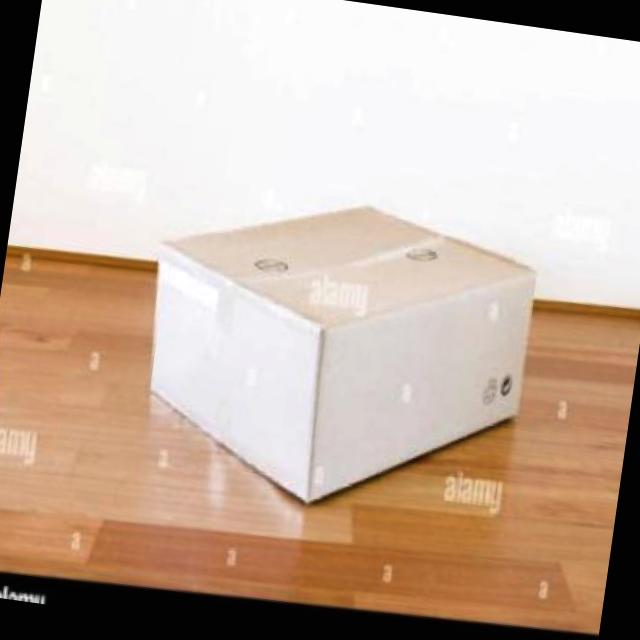box: (107, 150, 588, 562)
